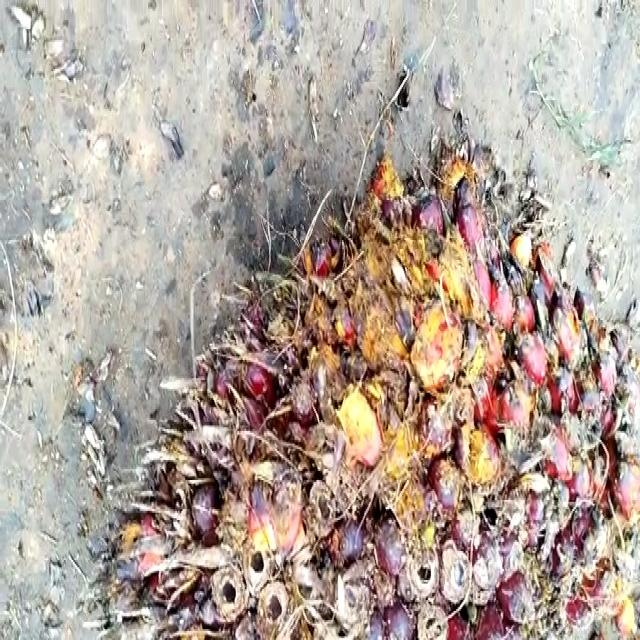palm oil: (96, 148, 635, 640)
